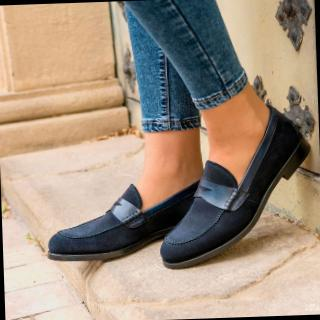loafers: (44, 100, 318, 279)
